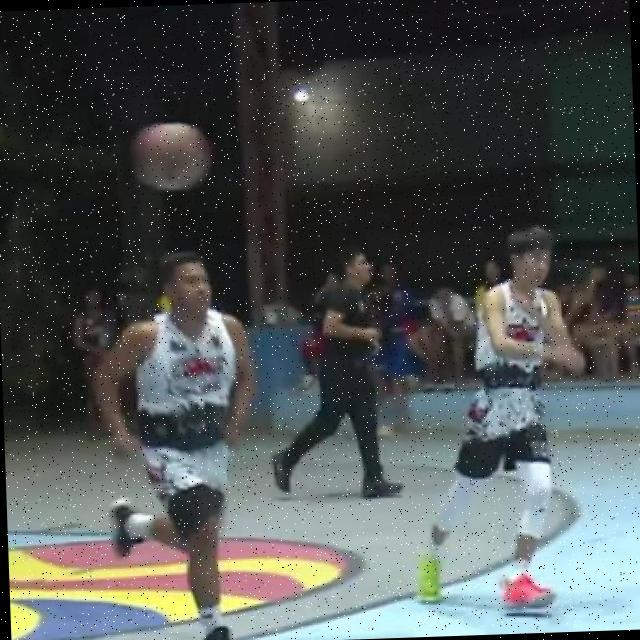ball: (120, 110, 219, 197)
